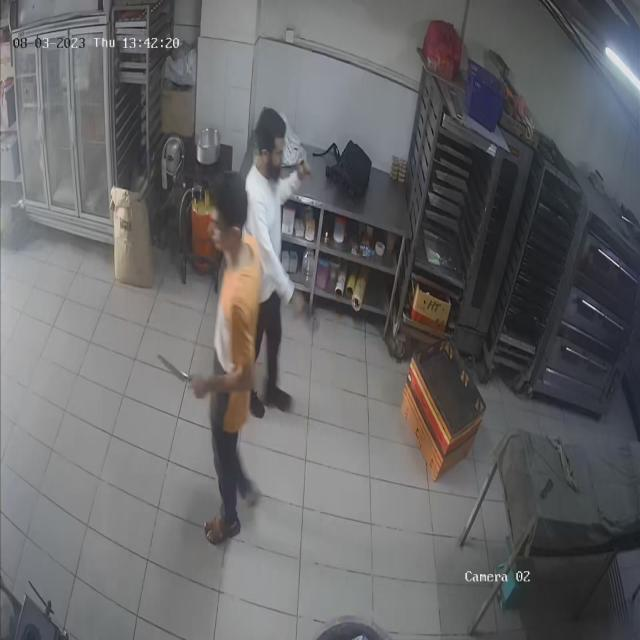Knife: (156, 354, 208, 398)
